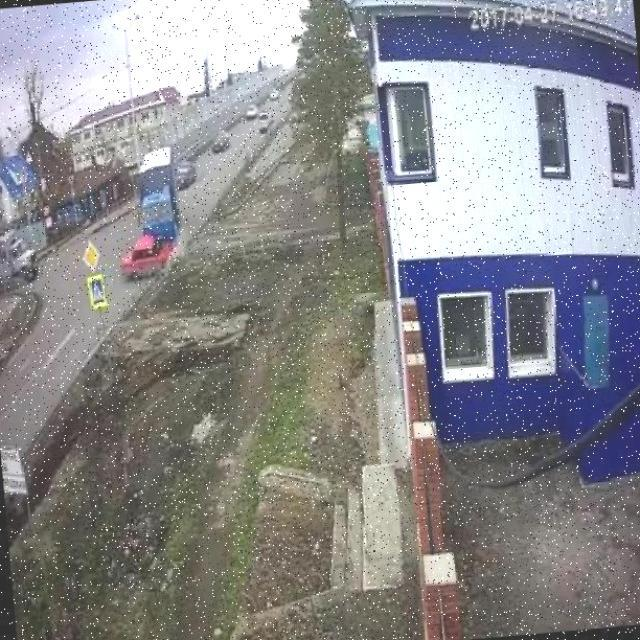accident: (117, 199, 189, 273)
